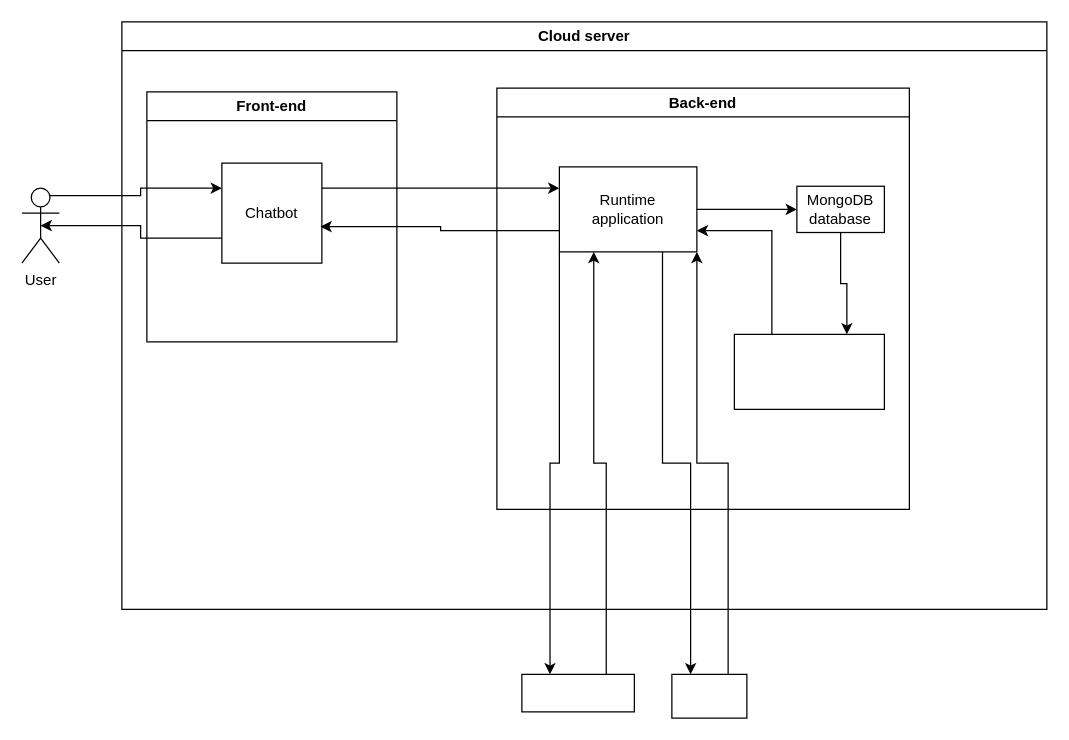
Image size: 1069x740. Some labels were removed from this diagram. Here are the shapes that lost their labels. From the top down, the box of each, then its label:
(733, 333, 884, 409): Offline RL training application
(521, 673, 634, 712): ChatGPT
(671, 673, 747, 718): Other APIs
